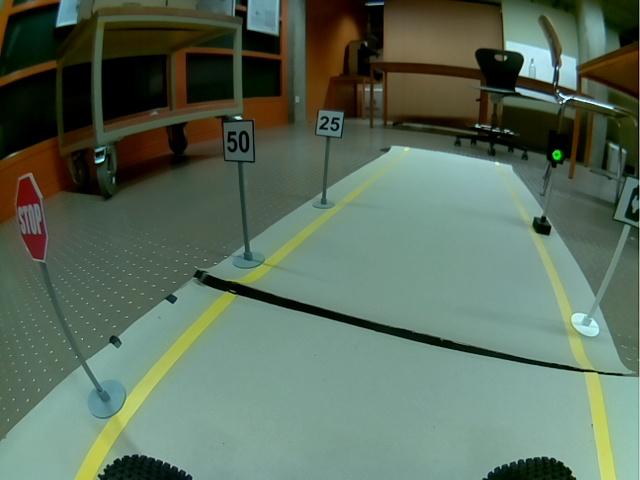battery: (612, 176, 640, 228)
speed25: (315, 109, 344, 139)
speed50: (221, 120, 256, 163)
stop: (15, 173, 50, 263)
trafficLightGreen: (547, 129, 567, 165)
